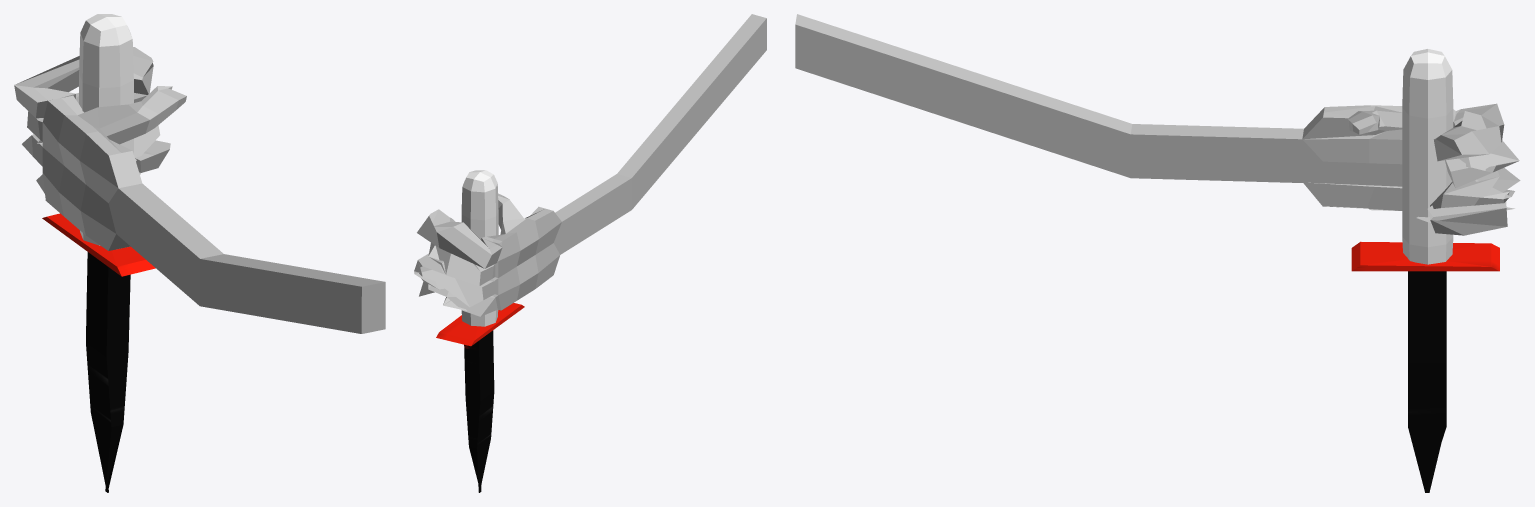
Rendered from knif.fbx.
3 views of the same model, side by side, from view 1: azimuth 30°, elevation 25°; view 2: azimuth 150°, elevation 25°; view 3: azimuth 270°, elevation 25° (orthographic). The views are drawn at different scales.
Visible parts, largest first — view 1: Cube.002, Cube.001, Cube; view 2: Cube.002, Cube.001, Cube; view 3: Cube.002, Cube.001, Cube.
Part boxes in pixels (box(x1,y1,x2,y2)): Cube.002: box(14, 47, 385, 333); Cube.001: box(42, 213, 155, 492); Cube: box(79, 14, 133, 245); Cube.002: box(414, 14, 766, 316); Cube.001: box(436, 303, 524, 492); Cube: box(461, 170, 498, 326); Cube.002: box(795, 14, 1520, 235); Cube.001: box(1351, 241, 1499, 492); Cube: box(1402, 49, 1453, 264).
Bounding box in the file's own units: 594 × 1740 × 2599.
